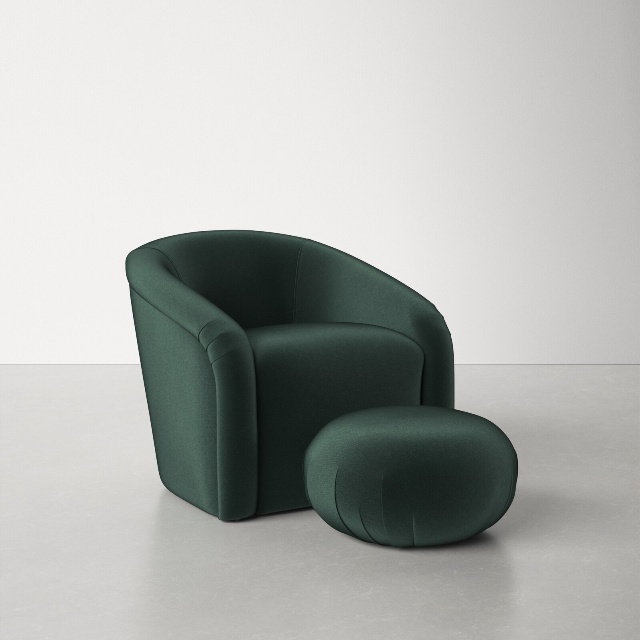obstacle: (126, 230, 517, 546)
